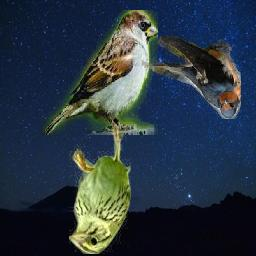Sparrow: (42, 11, 158, 136), (69, 122, 131, 254)
Swallow: (143, 37, 242, 120)
